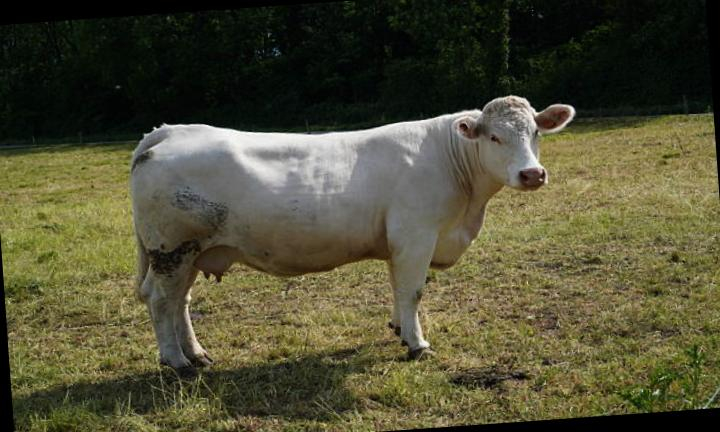Charolais: (130, 95, 574, 370)
